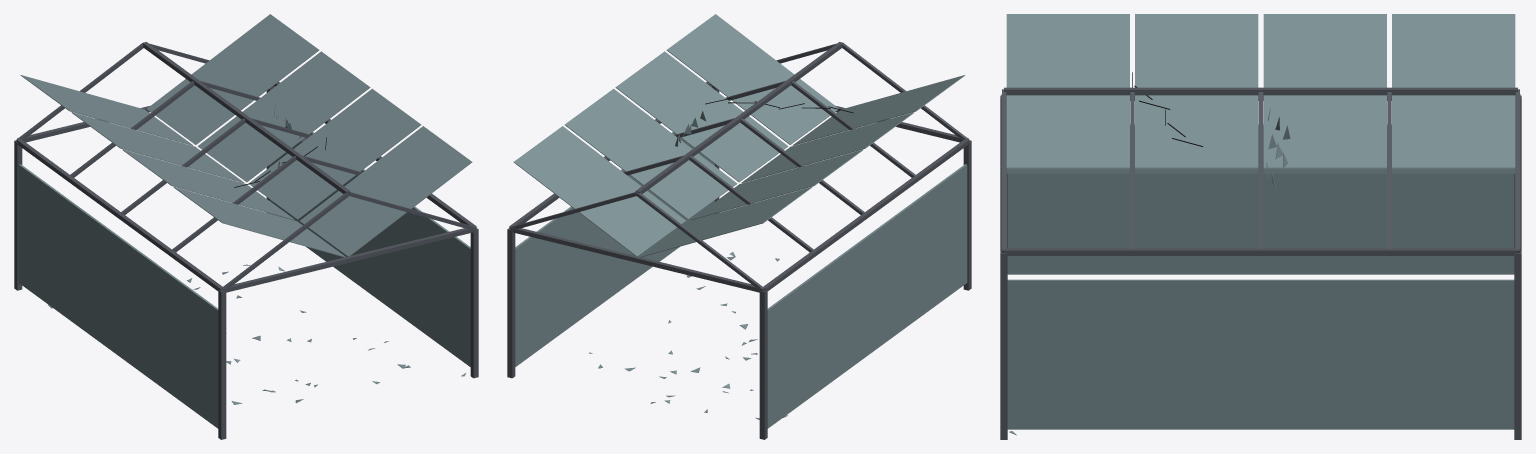
The model's file is winter_garden_cafe.glb.
3 renders of one model, left to right at view 1: azimuth 30°, elevation 25°; view 2: azimuth 150°, elevation 25°; view 3: azimuth 270°, elevation 25°, orthographic. The views are drawn at different scales.
Parts seen in each view (by area): view 1: frame_mesh, pane.020, pane.022, pane.013, pane.021, pane.018, pane.019, pane.016, pane.017; view 2: frame_mesh, pane.022, pane.020, pane.021, pane.013, pane.017, pane.016, pane.018, pane.019; view 3: frame_mesh, pane.016, pane.019, pane.017, pane.018, pane.020, pane.022, pane.013, pane.021.
Part boxes in pixels (x1,y1,x2,y2): frame_mesh: (14, 42, 478, 439); pane.020: (300, 126, 472, 256); pane.022: (147, 14, 319, 144); pane.013: (249, 88, 421, 219); pane.021: (198, 51, 370, 182); pane.018: (71, 112, 244, 182); pane.019: (20, 75, 193, 145); pane.016: (173, 187, 345, 257); pane.017: (123, 149, 294, 220); frame_mesh: (507, 42, 971, 439); pane.022: (513, 126, 685, 256); pane.020: (666, 14, 838, 144); pane.021: (564, 88, 737, 219); pane.013: (615, 51, 787, 182); pane.017: (741, 112, 914, 182); pane.016: (792, 75, 965, 145); pane.018: (691, 149, 862, 220); pane.019: (640, 187, 812, 257); frame_mesh: (1000, 87, 1521, 439); pane.016: (1006, 14, 1129, 167); pane.019: (1392, 14, 1515, 167); pane.017: (1135, 14, 1258, 167); pane.018: (1263, 14, 1386, 167); pane.020: (1006, 167, 1129, 173); pane.022: (1392, 167, 1515, 173); pane.013: (1135, 167, 1258, 173); pane.021: (1263, 167, 1386, 173).
Size of what is drawn, in the model's own units: 5.1 by 4.16 by 7.1.
